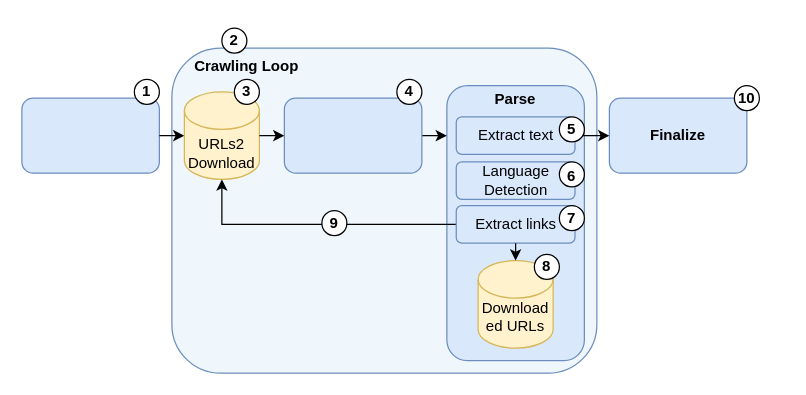
The diagram is 806 pixels wide and 395 high, and some of its shapes have lost their labels. The shapes that lost their labels are listed below. From the top down, each one's centre as x and y in pixels, then its label:
At pixel 90 135: "SeedURLs".
At pixel 352 135: "Fetch Download HTML".
